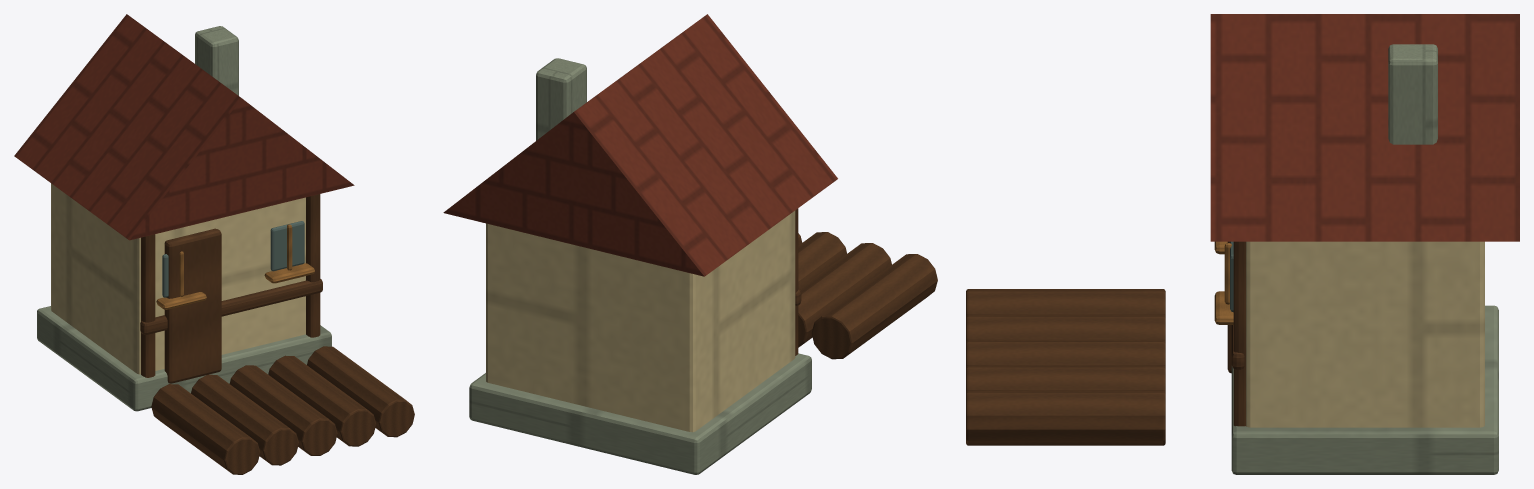
File: lumber.glb
3 renders of one model, left to right at view 1: azimuth 30°, elevation 25°; view 2: azimuth 150°, elevation 25°; view 3: azimuth 270°, elevation 25°, orthographic. The views are drawn at different scales.
Parts seen in each view (by area): view 1: gable_roof, plaster, door, foundation, logs, logs.001, logs.002, logs.003, logs.004, chimney, beam, timber_corner (+4 smaller); view 2: gable_roof, plaster, foundation, logs, logs.001, chimney, logs.002, timber_corner; view 3: gable_roof, plaster, foundation, logs.004, logs.001, logs.002, logs, chimney, logs.003, timber_corner.001.
Boxes of the visible parts, <box> form: gable_roof: <box>14,14,354,240</box>; plaster: <box>51,183,305,374</box>; door: <box>164,228,221,383</box>; foundation: <box>37,306,331,411</box>; logs: <box>151,384,260,474</box>; logs.001: <box>191,374,298,465</box>; logs.002: <box>229,365,337,455</box>; logs.003: <box>268,355,376,446</box>; logs.004: <box>307,346,414,437</box>; chimney: <box>195,26,238,95</box>; beam: <box>140,279,322,334</box>; timber_corner: <box>141,234,155,377</box>; gable_roof: <box>443,14,837,276</box>; plaster: <box>486,210,795,432</box>; foundation: <box>469,353,811,474</box>; logs: <box>811,254,937,359</box>; logs.001: <box>798,243,891,347</box>; chimney: <box>536,58,586,140</box>; logs.002: <box>798,232,846,289</box>; timber_corner: <box>795,208,798,355</box>; gable_roof: <box>1210,14,1519,241</box>; plaster: <box>1246,241,1484,427</box>; foundation: <box>1231,305,1498,474</box>; logs.004: <box>966,390,1165,445</box>; logs.001: <box>966,314,1165,341</box>; logs.002: <box>966,339,1165,366</box>; logs: <box>966,289,1165,315</box>; chimney: <box>1388,44,1437,144</box>; logs.003: <box>966,365,1165,391</box>; timber_corner.001: <box>1233,241,1245,426</box>.
Size of the model in its own units: 1.75 by 2.2 by 2.78.
6 materials, 5 textured.
